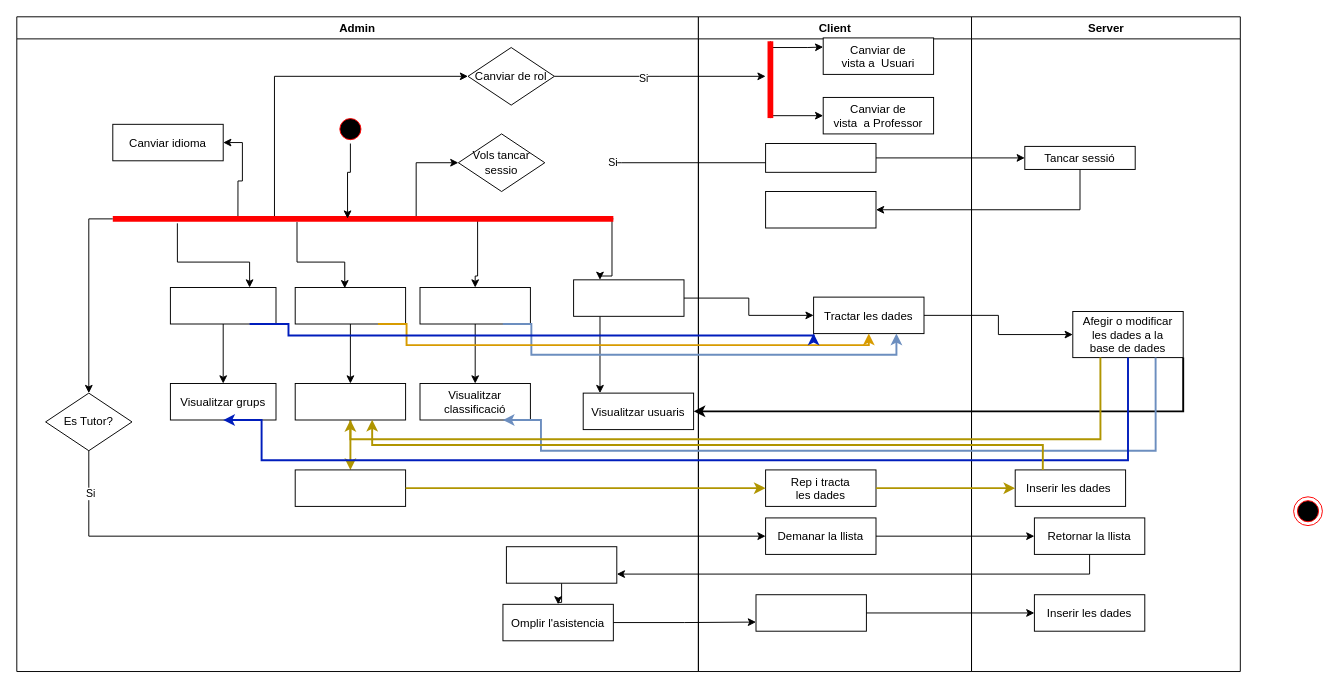
This 1339x688 diagram has some shape labels left out. The shapes that lost their labels are listed below. From the top down, each one's centre as x and y in pixels, then its label:
At [820,157]: "Confirmar l'acció".
At [820,209]: "Canviar de vista a anonim".
At [222,305]: "Administrar grups".
At [350,305]: "Administrar activitats".
At [474,305]: "Administrar clasificacio".
At [628,297]: "Administrar usuaris".
At [350,401]: "Visualitzar activitats".
At [350,487]: "Puntuar els guanyadors".
At [561,564]: "Visualitzar la llista".
At [810,612]: "Enviar l'asistencia".
